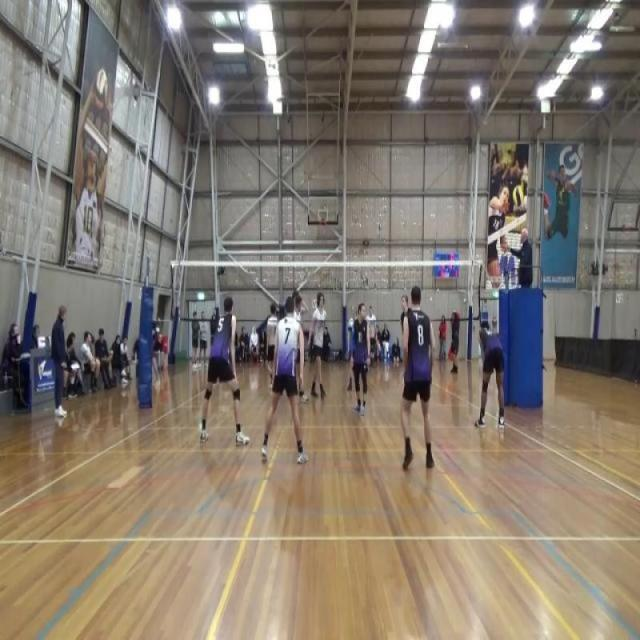volleyball: (95, 66, 108, 108), (512, 185, 524, 208)
